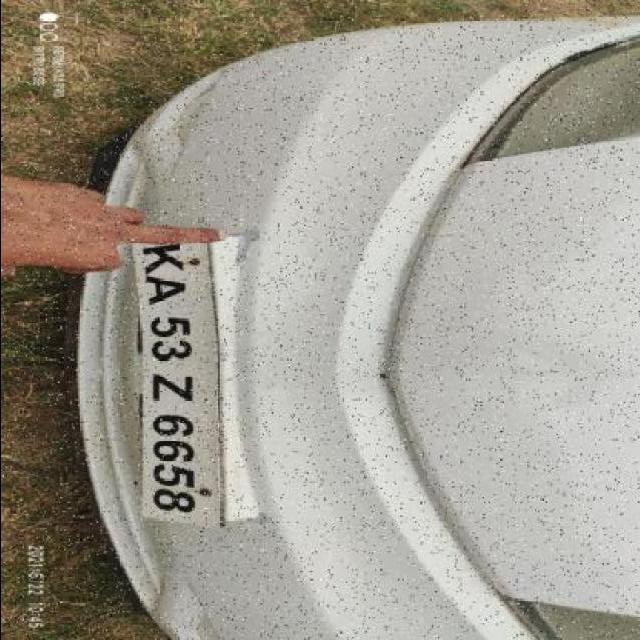front-bumper-dent: (38, 186, 447, 432)
